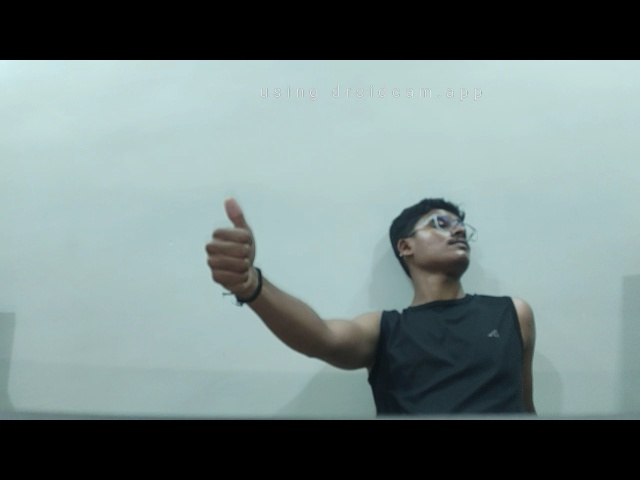thanks: (192, 191, 272, 305)
